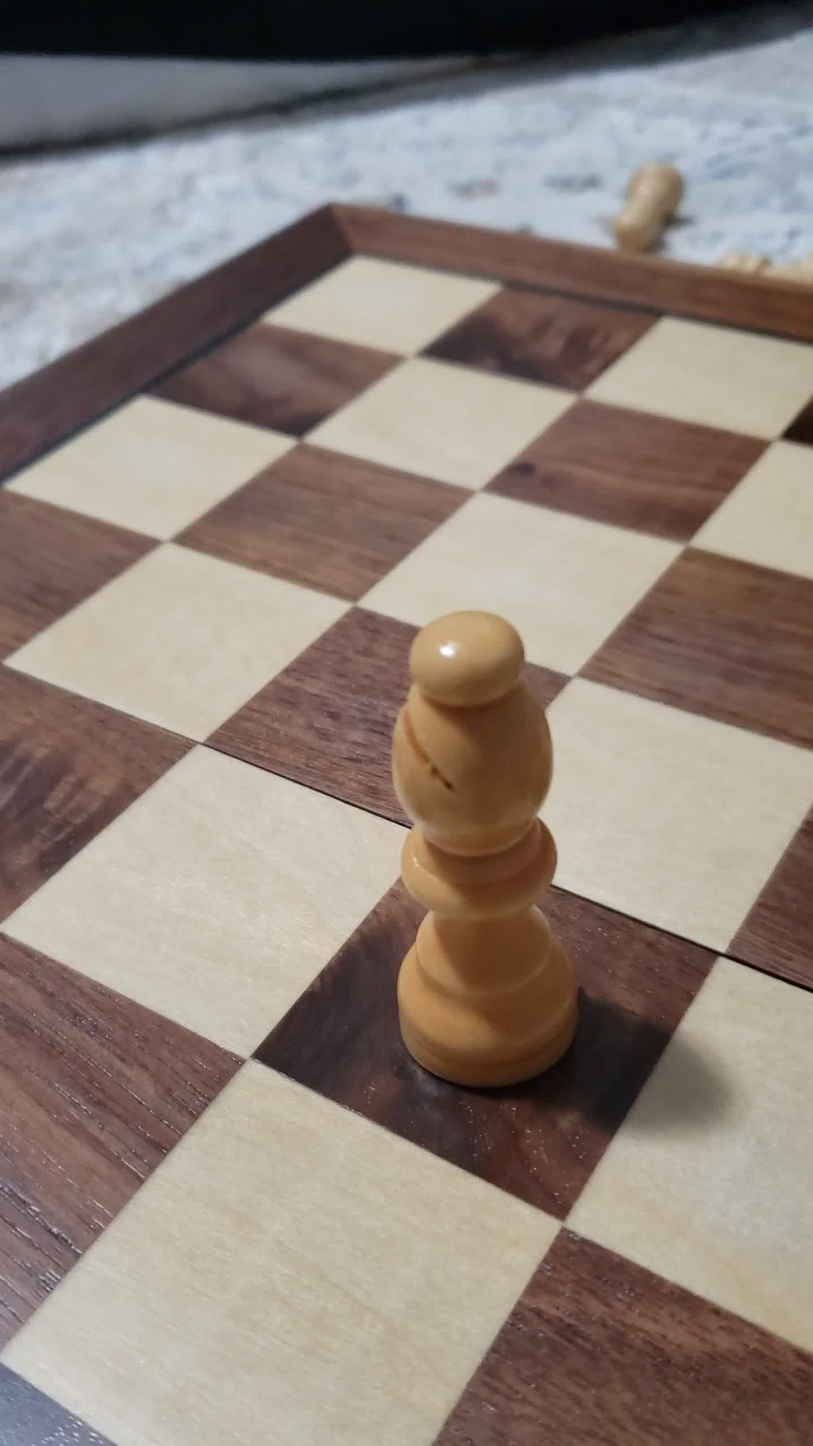white-bishop: (344, 602, 625, 1105)
